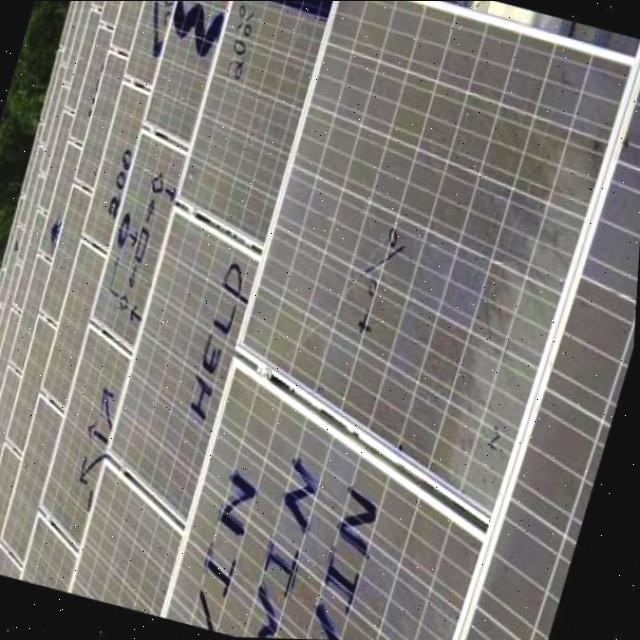Surface Contaminant: (0, 0, 640, 640), (180, 0, 330, 252)
